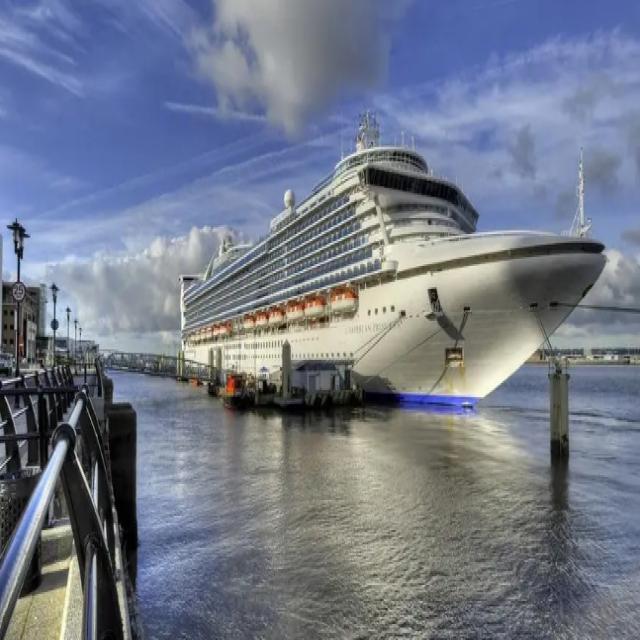passenger ship: (164, 119, 613, 439)
